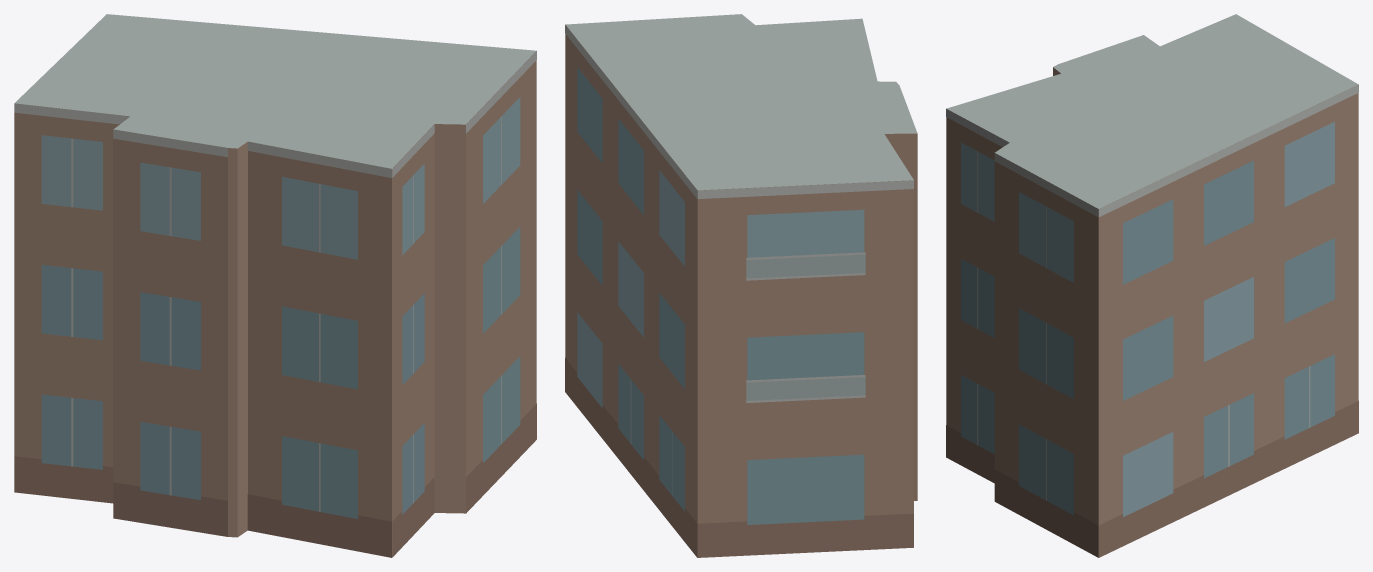
Rendered from survey-upis-33012347.glb.
The picture shows the model from 3 angles, left to right: view 1: azimuth 30°, elevation 25°; view 2: azimuth 150°, elevation 25°; view 3: azimuth 270°, elevation 25°; orthographic projection. The views are drawn at different scales.
Parts seen in each view (by area): view 1: survey-upis-33012347.tmp; view 2: survey-upis-33012347.tmp; view 3: survey-upis-33012347.tmp.
Part boxes in pixels (x1,y1,x2,y2): survey-upis-33012347.tmp: [14, 14, 536, 557]; survey-upis-33012347.tmp: [565, 14, 917, 557]; survey-upis-33012347.tmp: [946, 14, 1358, 557].
Bounding box in the file's own units: 12.24 × 10.2 × 10.94.
